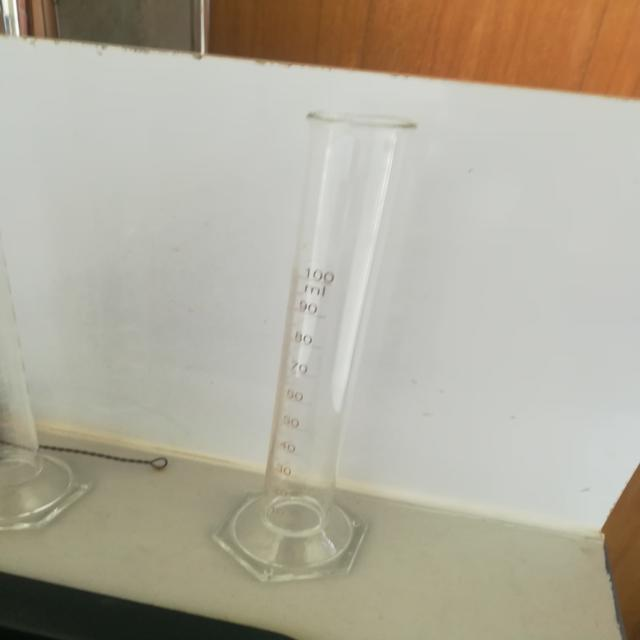Measuring_Cylinder: (207, 88, 450, 610)
